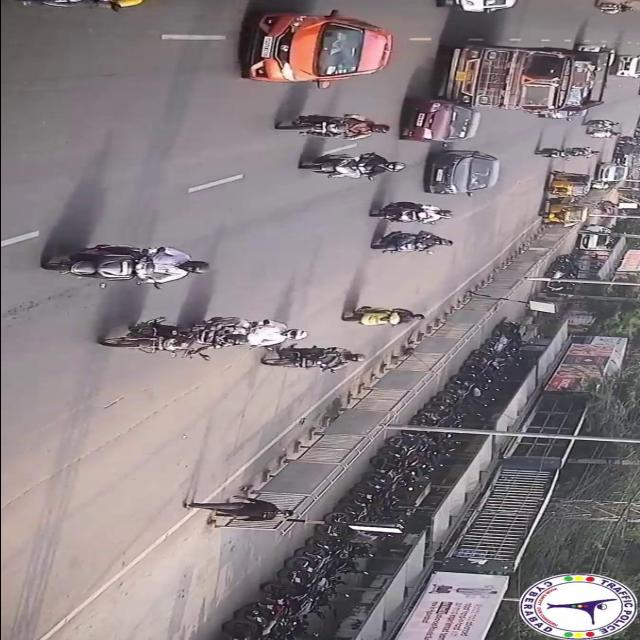accident: (393, 43, 619, 145)
non_accident: (86, 311, 306, 364), (593, 138, 640, 192), (527, 139, 597, 162)
